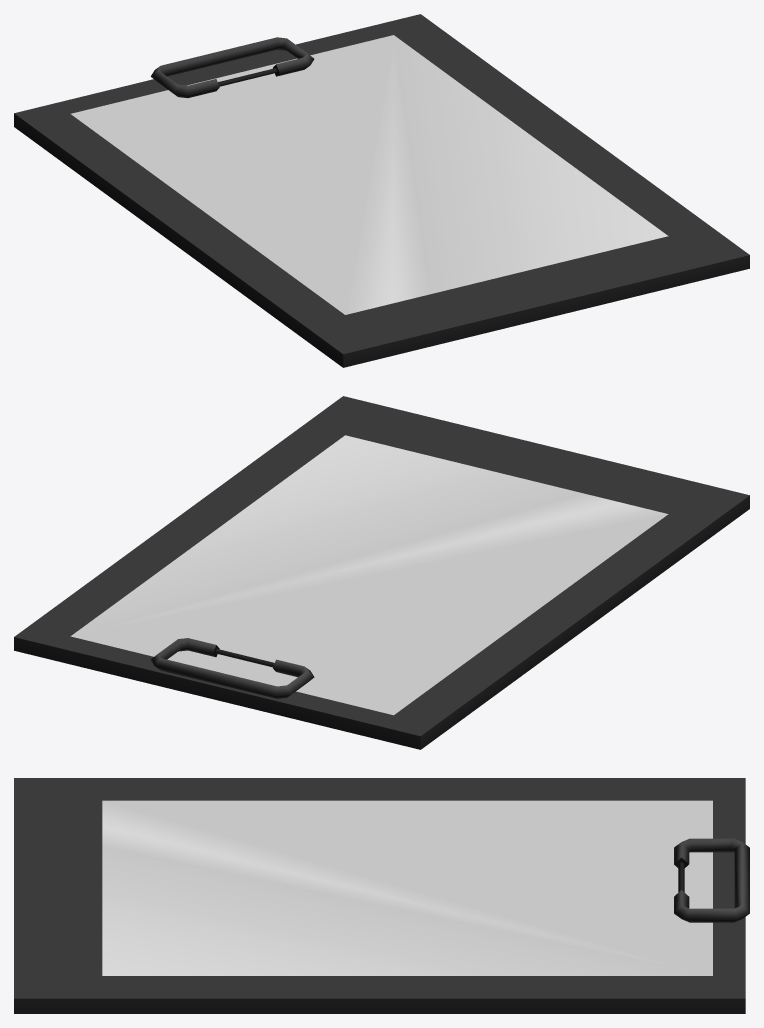
Rendered from CR_sci_Book_002.FBX.
The picture shows the model from 3 angles, top to bottom: view 1: azimuth 30°, elevation 25°; view 2: azimuth 150°, elevation 25°; view 3: azimuth 270°, elevation 25°; orthographic projection. The views are drawn at different scales.
Parts seen in each view (by area): view 1: CR_sci_Book_002; view 2: CR_sci_Book_002; view 3: CR_sci_Book_002.
Part boxes in pixels (x1=…): CR_sci_Book_002: x1=14, y1=14, x2=749, y2=367; CR_sci_Book_002: x1=14, y1=396, x2=749, y2=749; CR_sci_Book_002: x1=14, y1=778, x2=749, y2=1013.
Bounding box in the file's own units: 17.05 × 1.08 × 24.04.
